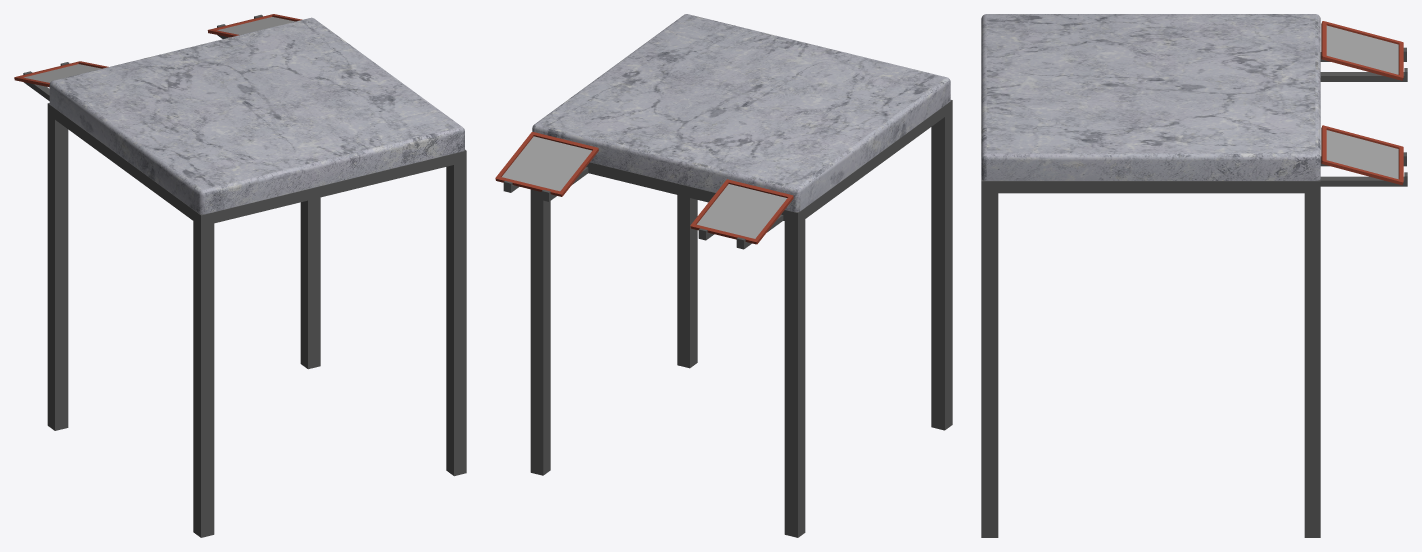
Rendered from NewTableV6.fbx.
3 renders of one model, left to right at view 1: azimuth 30°, elevation 25°; view 2: azimuth 150°, elevation 25°; view 3: azimuth 270°, elevation 25°, orthographic. The views are drawn at different scales.
Visible parts, largest first — view 1: TableTop, Leg3, Leg1, Leg4, TableBase, Leg2, Cube.003, Cube.001; view 2: TableTop, Leg1, Leg3, Leg2, TableBase, Leg4, Cube.003, Cube.001, Cube, Cube.002; view 3: TableTop, Leg4, Leg2, TableBase, Cube.001, Cube.003, Cube, Cube.002, TableBase.001, TableBase.002.
Boxes of the visible parts, left/top/right/bottom form: TableTop: left=49, top=17, right=464, bottom=214; Leg3: left=193, top=221, right=214, bottom=537; Leg1: left=47, top=114, right=68, bottom=430; Leg4: left=446, top=162, right=466, bottom=476; TableBase: left=47, top=103, right=466, bottom=226; Leg2: left=300, top=197, right=320, bottom=369; Cube.003: left=24, top=64, right=101, bottom=82; Cube.001: left=217, top=17, right=295, bottom=34; TableTop: left=532, top=14, right=950, bottom=212; Leg1: left=784, top=219, right=805, bottom=537; Leg3: left=931, top=111, right=952, bottom=430; Leg2: left=530, top=189, right=550, bottom=475; TableBase: left=586, top=100, right=952, bottom=224; Leg4: left=677, top=195, right=697, bottom=368; Cube.003: left=697, top=184, right=787, bottom=238; Cube.001: left=502, top=136, right=591, bottom=191; Cube: left=495, top=132, right=598, bottom=196; Cube.002: left=690, top=179, right=793, bottom=244; TableTop: left=981, top=14, right=1320, bottom=180; Leg4: left=981, top=193, right=998, bottom=537; Leg2: left=1304, top=193, right=1320, bottom=537; TableBase: left=981, top=179, right=1320, bottom=193; Cube.001: left=1326, top=130, right=1398, bottom=179; Cube.003: left=1326, top=25, right=1398, bottom=74; Cube: left=1321, top=125, right=1403, bottom=185; Cube.002: left=1321, top=21, right=1403, bottom=80; TableBase.001: left=1320, top=152, right=1407, bottom=186; TableBase.002: left=1320, top=47, right=1407, bottom=81.
Bounding box in the file's own units: 2.5 × 3.11 × 3.14.
